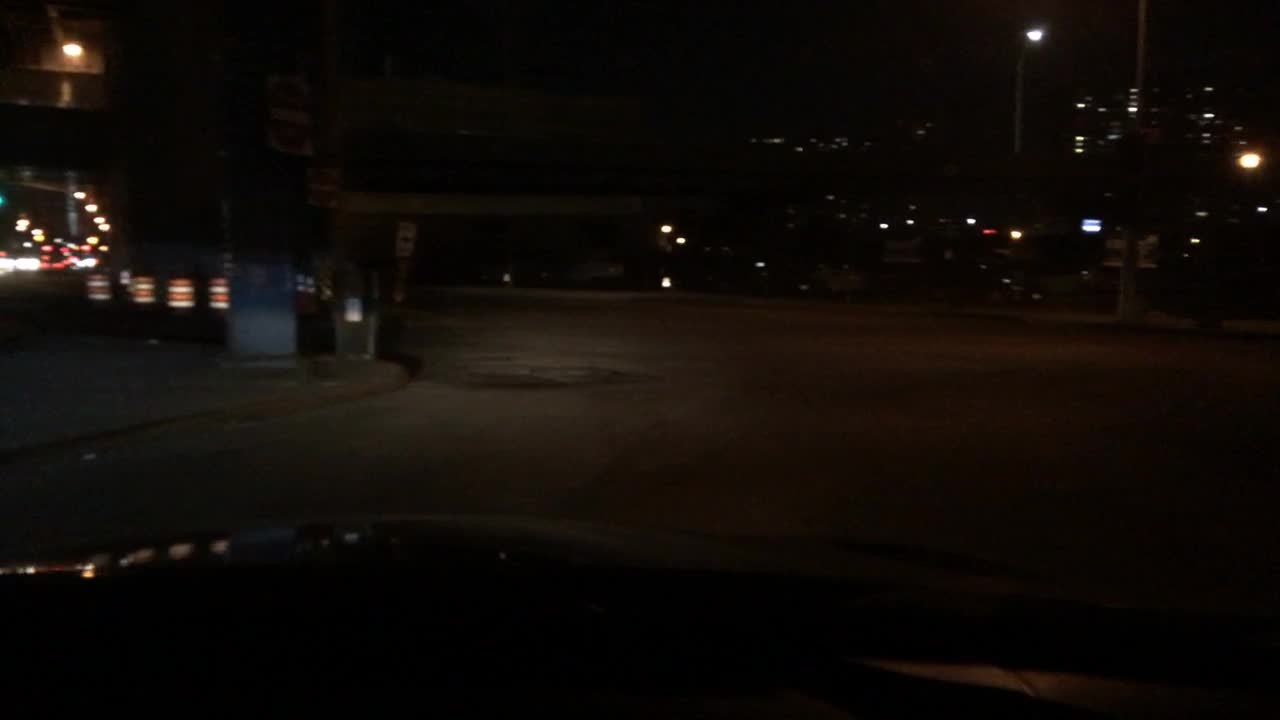car: (979, 240, 1105, 304), (794, 262, 869, 297)
traffic sign: (269, 73, 309, 151), (309, 167, 339, 205), (397, 222, 416, 260)
